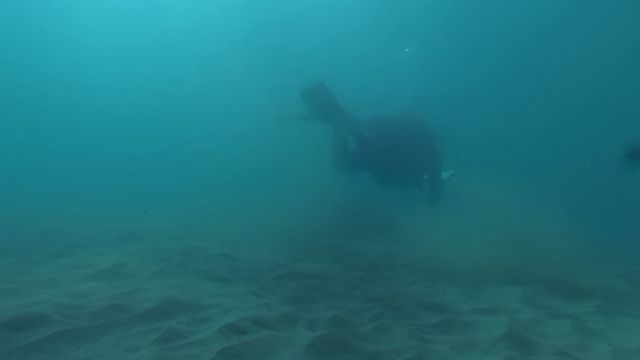Diver: (254, 59, 476, 225)
